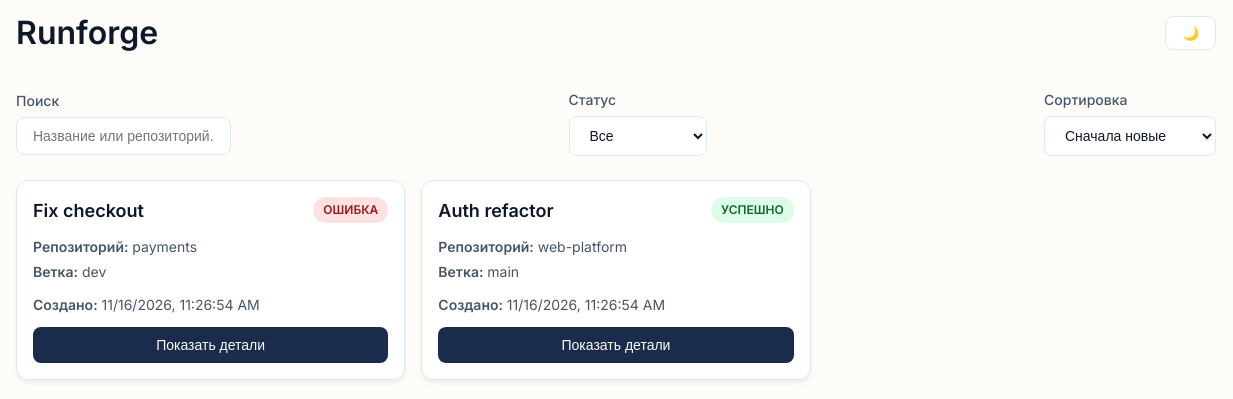
Scenario: Runforge Dashboard › должен фильтровать список при вводе в поиск
Expected: the heading "Auth refactor" is shown, [438,197,554,224]
Type "checkout" into the field at (124, 136), box [16,117,231,155]
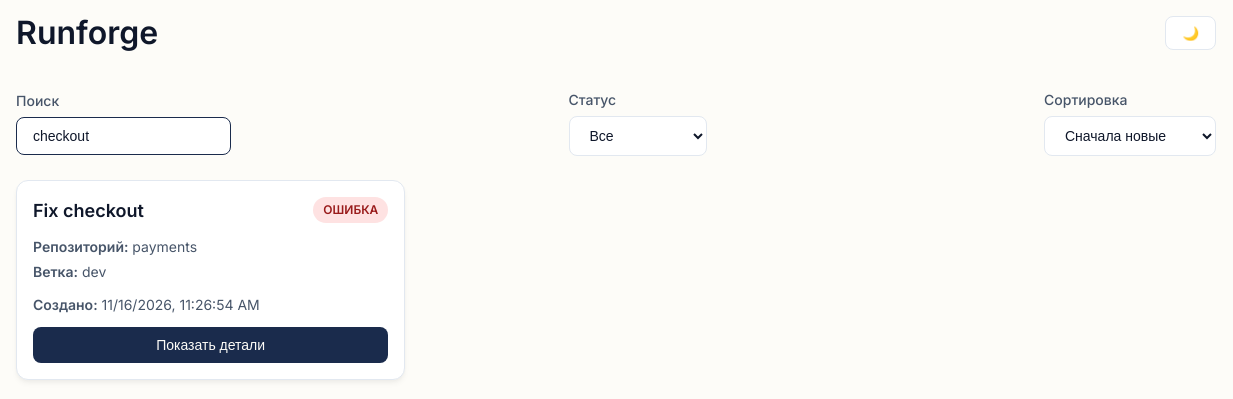
Expected: the heading "Fix checkout" is shown, [33,197,144,224]
Expected: the heading "Auth refactor" is gone
